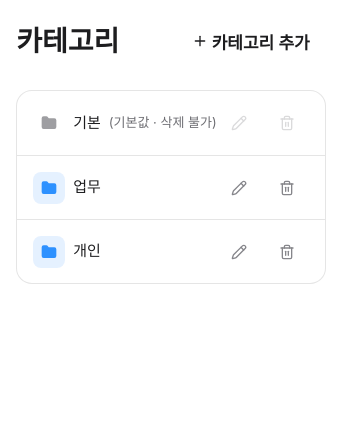
Test: CategoriesPage › "카테고리 추가" 버튼 클릭 시 인라인 폼이 표시된다
Click the button "카테고리 추가".
click(251, 41)  # box [176,16,326,66]
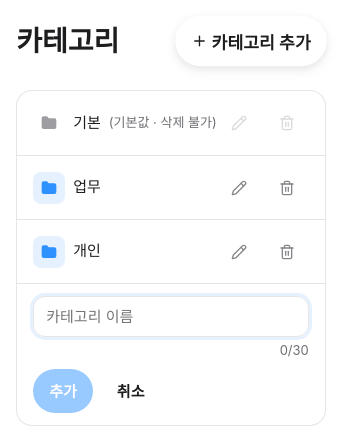
Expected: the field is shown, [33,296,309,337]
